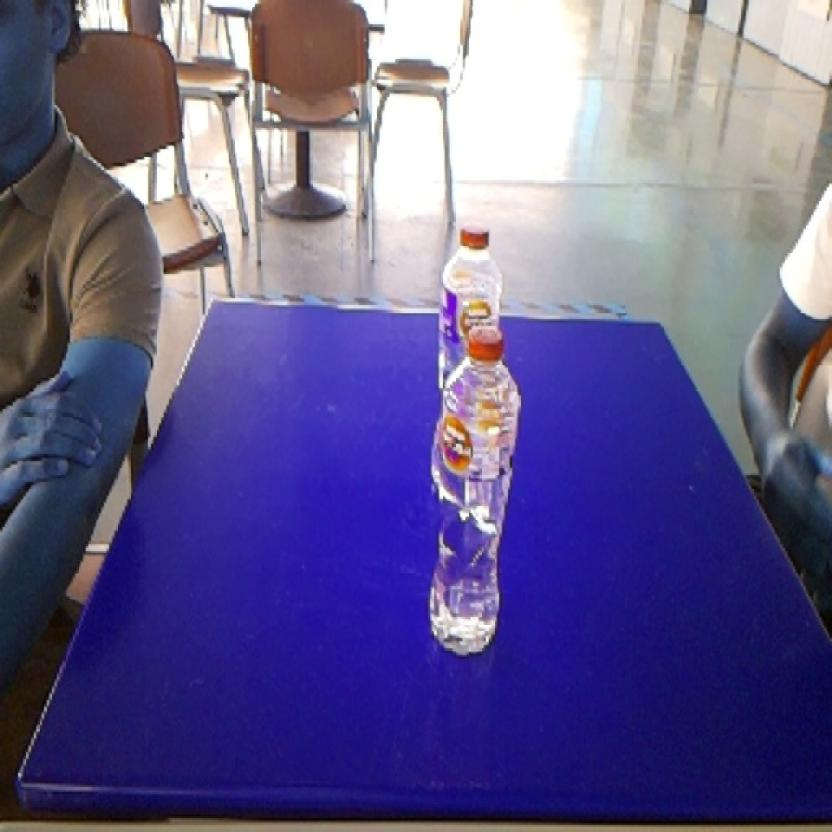good: (424, 326, 523, 669), (432, 213, 511, 327)
